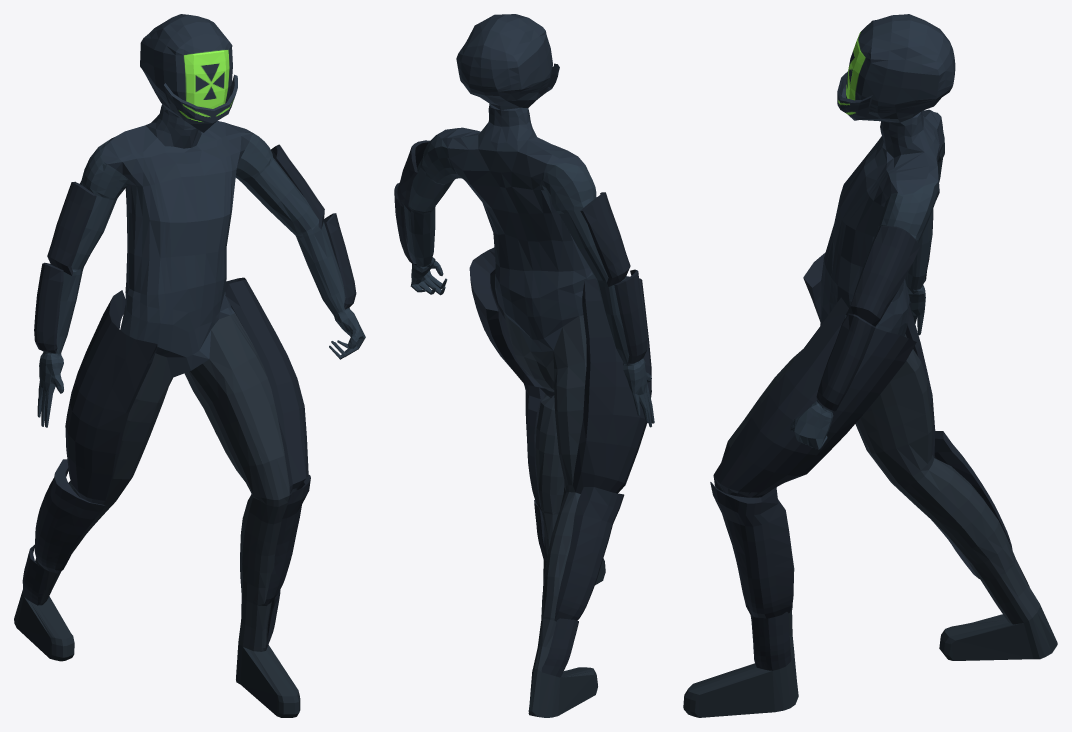
Rendered from Bastion_Hit_Recover_000001.obj.
3 views of the same model, side by side, from view 1: azimuth 30°, elevation 25°; view 2: azimuth 150°, elevation 25°; view 3: azimuth 270°, elevation 25° (orthographic). The views are drawn at different scales.
Visible parts, largest first — view 1: Cube.002; view 2: Cube.002; view 3: Cube.002.
Boxes of the visible parts, x1=… form: Cube.002: x1=14, y1=14, x2=365, y2=717; Cube.002: x1=394, y1=14, x2=654, y2=717; Cube.002: x1=683, y1=14, x2=1057, y2=717.
Bounding box in the file's own units: 1.71 × 3.66 × 1.79.
